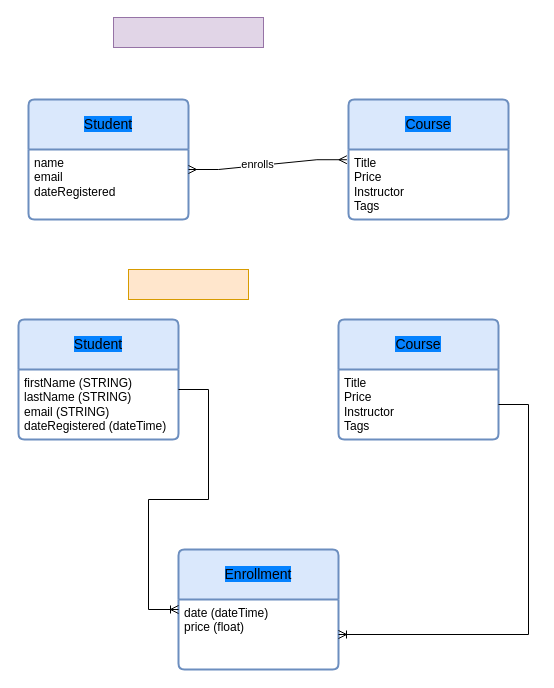
Some shapes in this 554 by 688 pixel diagram are drawn without their labels. Each missing label, with the centre of its shape:
CONCEPTUAL MODEL: the point at 188,32
LOGICAL MODEL: the point at 188,284
